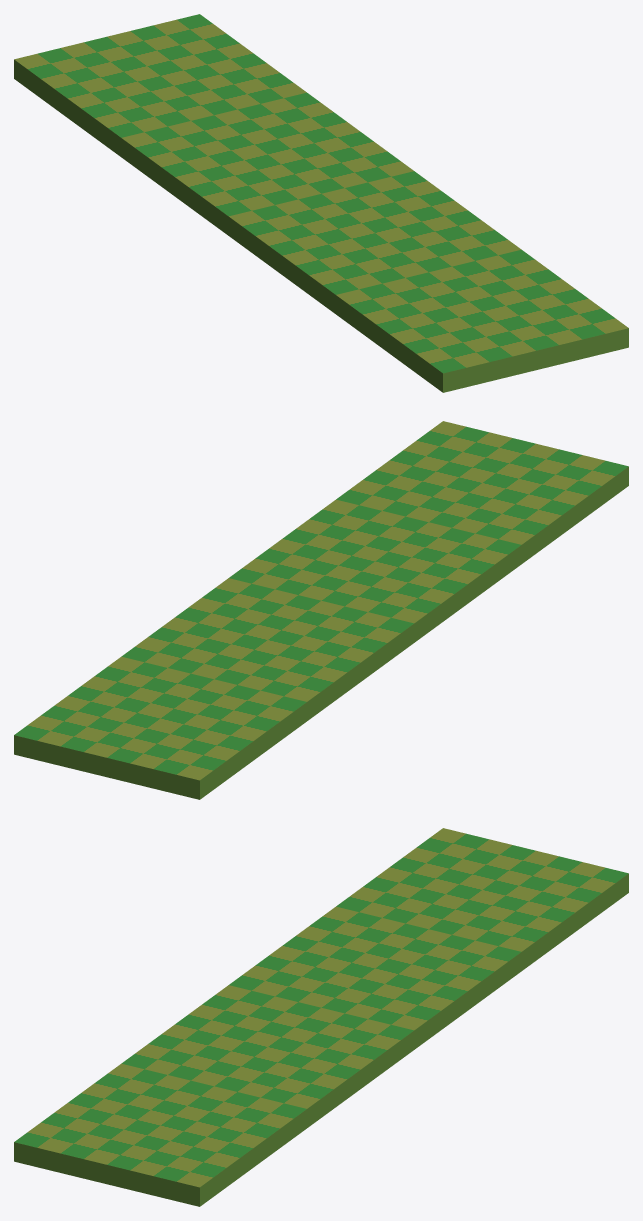
File: planeprecise.glb
The picture shows the model from 3 angles, top to bottom: view 1: azimuth 30°, elevation 25°; view 2: azimuth 150°, elevation 25°; view 3: azimuth 330°, elevation 25°; orthographic projection.
Visible parts, largest first — view 1: Plane.001; view 2: Plane.001; view 3: Plane.001.
Part boxes in pixels (box(x1,y1,x2,y2)): Plane.001: box(14, 14, 628, 392); Plane.001: box(14, 421, 628, 799); Plane.001: box(14, 828, 628, 1206).
Size of the model in its own units: 10 by 1 by 40.
Materials: 1 (1 with a texture image).
